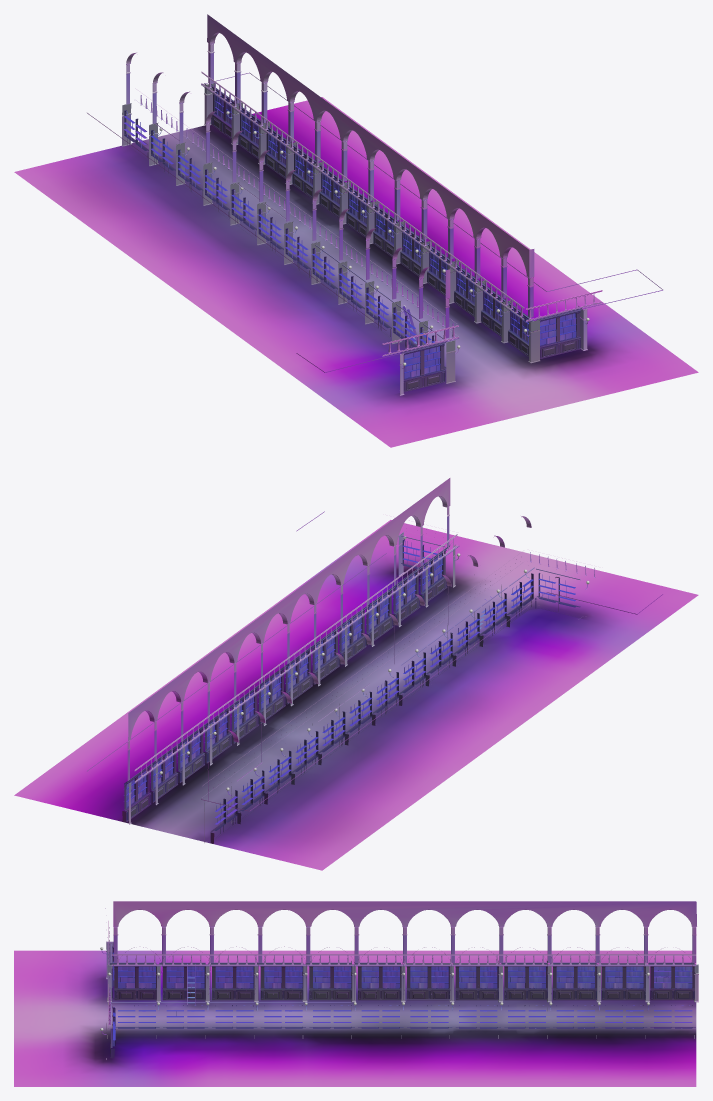
File: conversational_space.glb
3 views of the same model, one above another, from view 1: azimuth 30°, elevation 25°; view 2: azimuth 150°, elevation 25°; view 3: azimuth 270°, elevation 25° (orthographic). The views are drawn at different scales.
Visible parts, largest first — view 1: sol, structure; view 2: sol, structure; view 3: sol, structure.
Part boxes in pixels (bbox=[...]): sol: bbox=[14, 97, 698, 447]; structure: bbox=[87, 14, 662, 395]; sol: bbox=[14, 520, 698, 870]; structure: bbox=[87, 478, 662, 843]; sol: bbox=[14, 950, 696, 1086]; structure: bbox=[101, 901, 698, 1059].
Size of the model in its own units: 40.63 by 12.58 by 78.07.
